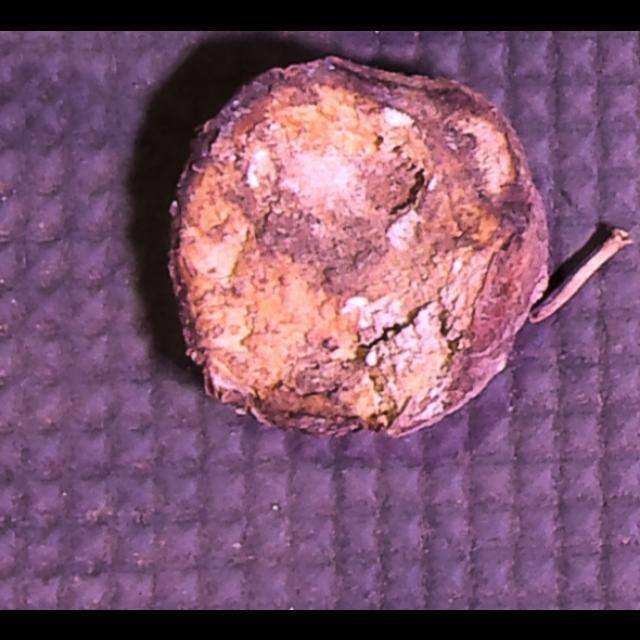Damaged potato: (126, 36, 640, 604)
